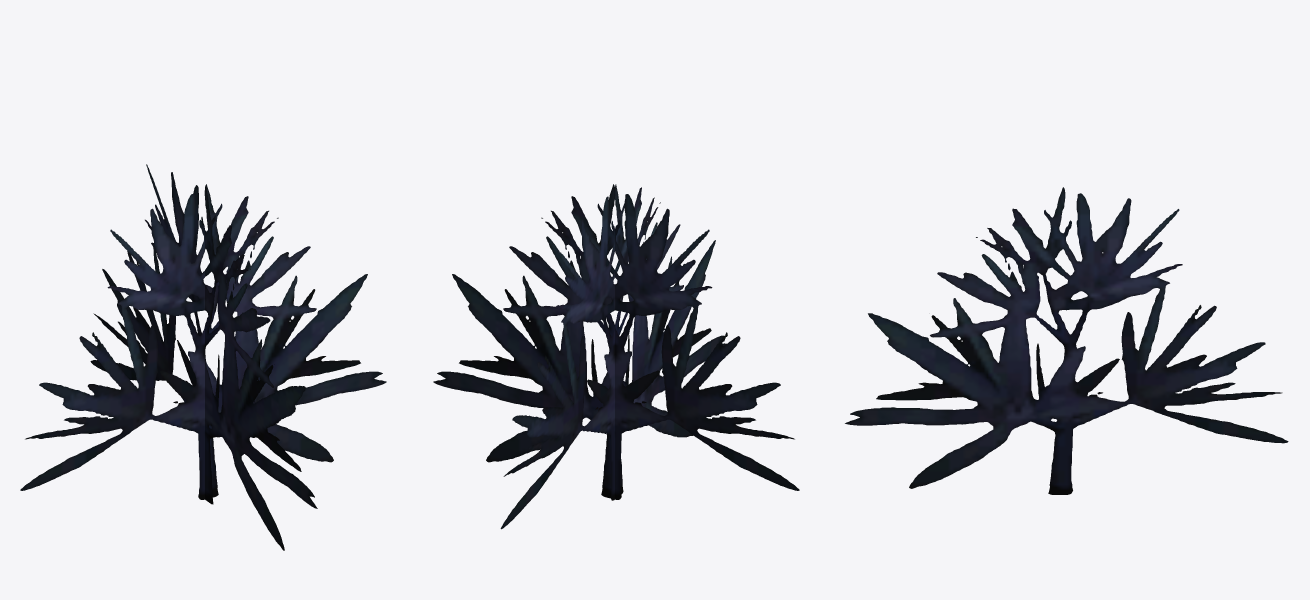
File: shrb_blueleaf_l1.fbx
The picture shows the model from 3 angles, left to right: view 1: azimuth 30°, elevation 25°; view 2: azimuth 150°, elevation 25°; view 3: azimuth 270°, elevation 25°; orthographic projection. The views are drawn at different scales.
Parts seen in each view (by area): view 1: mesh_node; view 2: mesh_node; view 3: mesh_node.
Part boxes in pixels (<box>): mesh_node: <box>20,164,386,550</box>; mesh_node: <box>433,184,799,529</box>; mesh_node: <box>845,187,1288,494</box>.
Size of the model in its own units: 1.6 by 1.6 by 1.72.
1 material, 1 textured.
